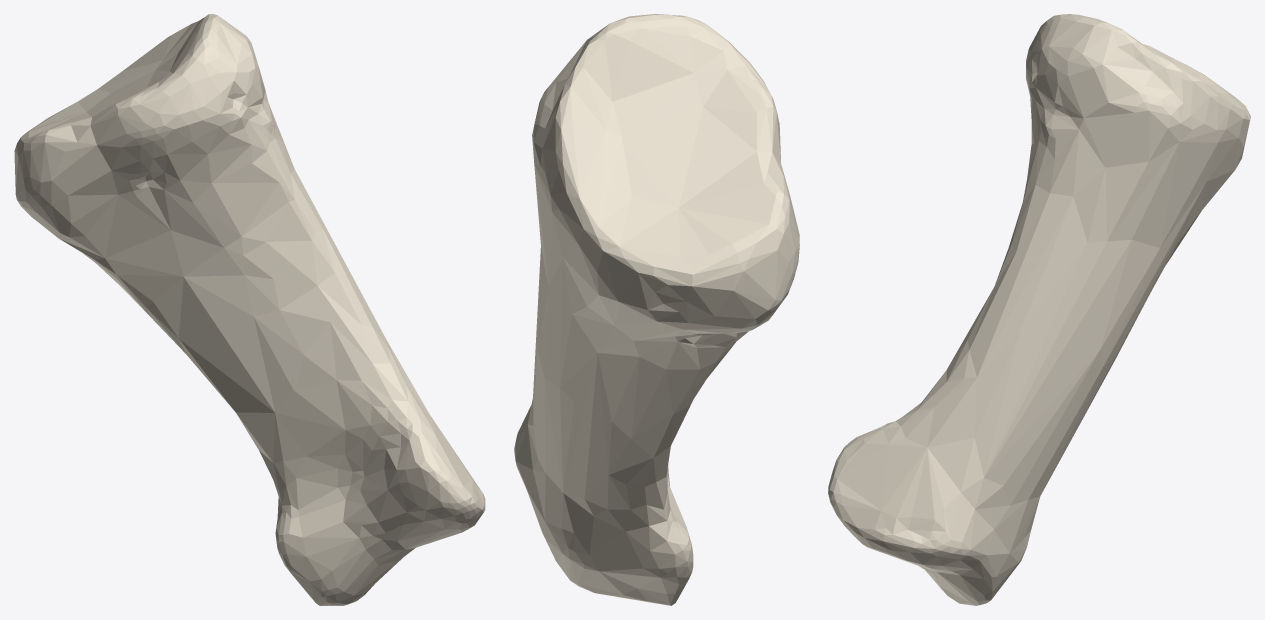
File: left_thumb_proximal_phalanx.glb
3 renders of one model, left to right at view 1: azimuth 30°, elevation 25°; view 2: azimuth 150°, elevation 25°; view 3: azimuth 270°, elevation 25°, orthographic. The views are drawn at different scales.
Parts seen in each view (by area): view 1: left_thumb_proximal_phalanx; view 2: left_thumb_proximal_phalanx; view 3: left_thumb_proximal_phalanx.
Part boxes in pixels (left/top/right/bottom): left_thumb_proximal_phalanx: left=14, top=14, right=485, bottom=605; left_thumb_proximal_phalanx: left=514, top=14, right=799, bottom=605; left_thumb_proximal_phalanx: left=828, top=14, right=1250, bottom=605.
Size of the model in its own units: 0.0203 by 0.0319 by 0.0224.
